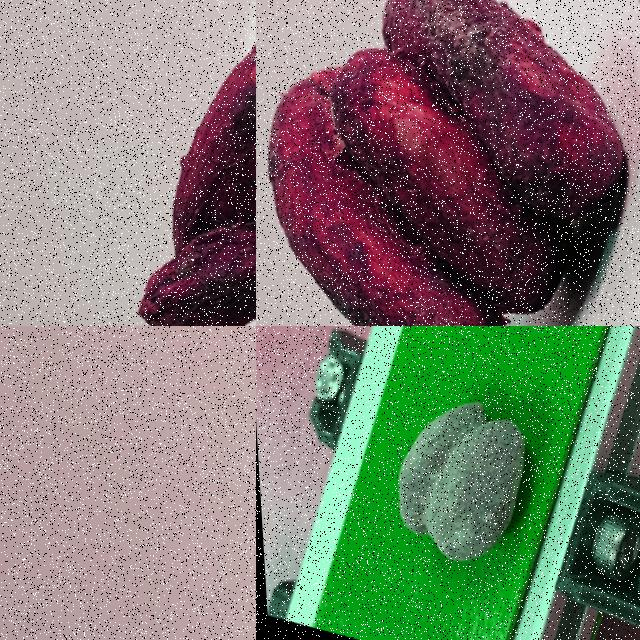Agglomerated_cocoabeans: (256, 0, 639, 325), (304, 326, 610, 639), (34, 0, 255, 325)
